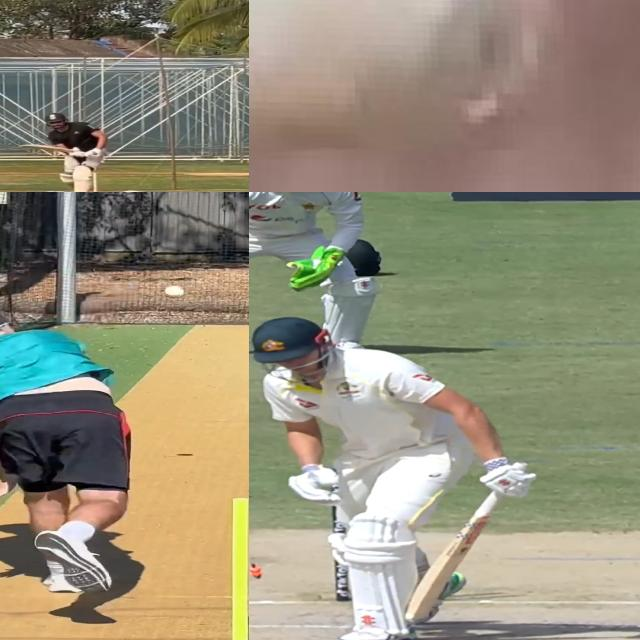Cricket ball: (249, 0, 564, 150), (162, 283, 187, 298)
